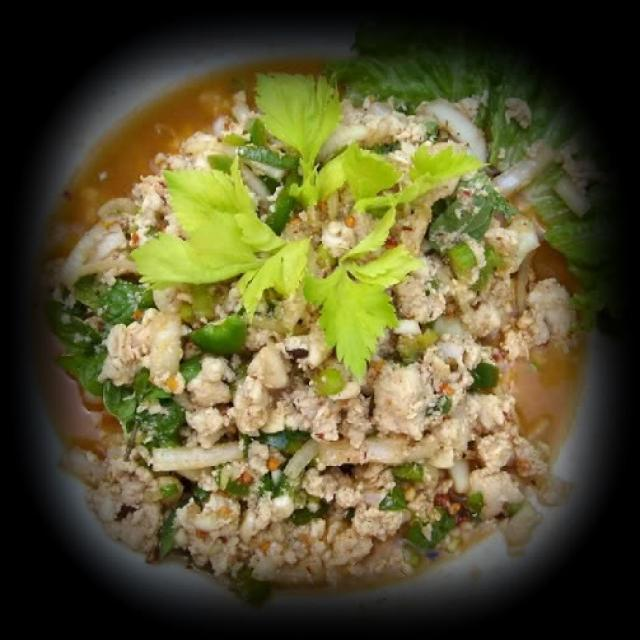鸡肉料理 含炸鸡: (36, 39, 613, 605)
